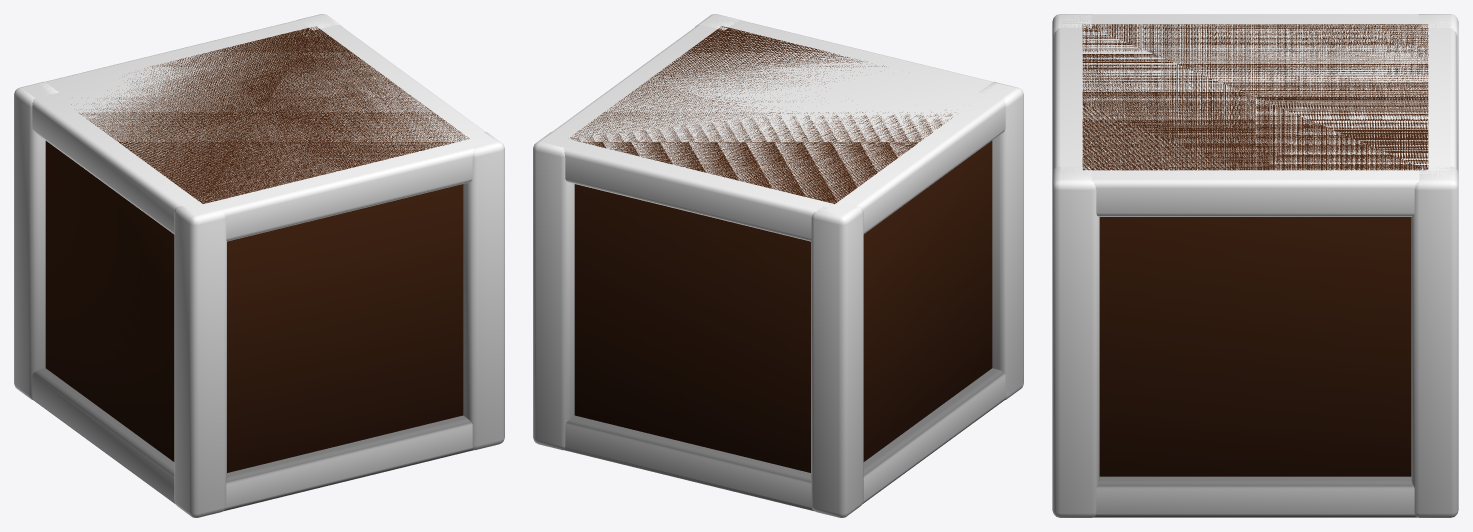
The model's file is wooden-crate.obj.
3 views of the same model, side by side, from view 1: azimuth 30°, elevation 25°; view 2: azimuth 150°, elevation 25°; view 3: azimuth 270°, elevation 25° (orthographic). The views are drawn at different scales.
Visible parts, largest first — view 1: wooden-crate; view 2: wooden-crate; view 3: wooden-crate.
Boxes of the visible parts, x1,y1,x2,y2 form: wooden-crate: (14,14,504,517); wooden-crate: (533,14,1023,517); wooden-crate: (1052,14,1458,517).
Size of the model in its own units: 0.6 by 0.55 by 0.6.
